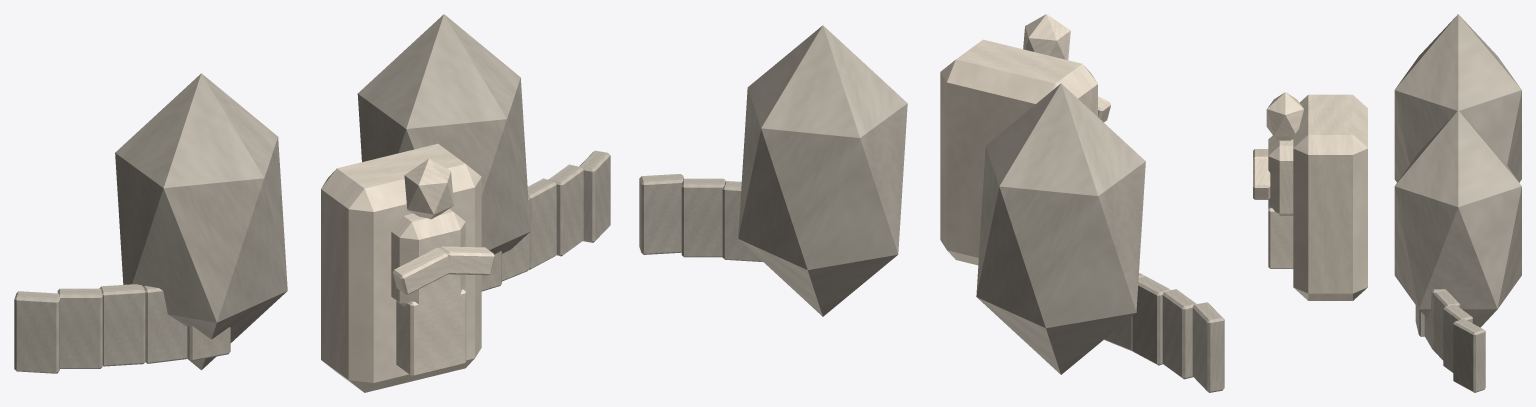
Rendered from mlk-memorial.glb.
3 renders of one model, left to right at view 1: azimuth 30°, elevation 25°; view 2: azimuth 150°, elevation 25°; view 3: azimuth 270°, elevation 25°, orthographic. The views are drawn at different scales.
Parts seen in each view (by area): view 1: mlk-memorial; view 2: mlk-memorial; view 3: mlk-memorial.
Part boxes in pixels (x1,y1,x2,y2): mlk-memorial: [14, 14, 610, 392]; mlk-memorial: [639, 14, 1224, 392]; mlk-memorial: [1253, 14, 1521, 392].
Bounding box in the file's own units: 10.05 × 4.8 × 4.85.
1 material, 1 textured.
